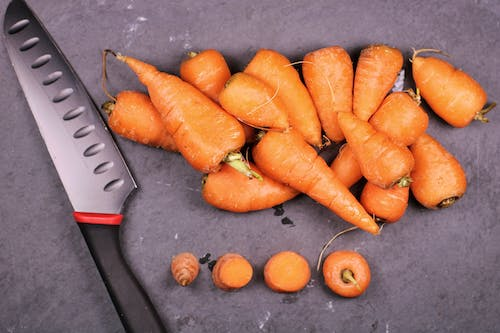knife: (0, 0, 169, 333)
